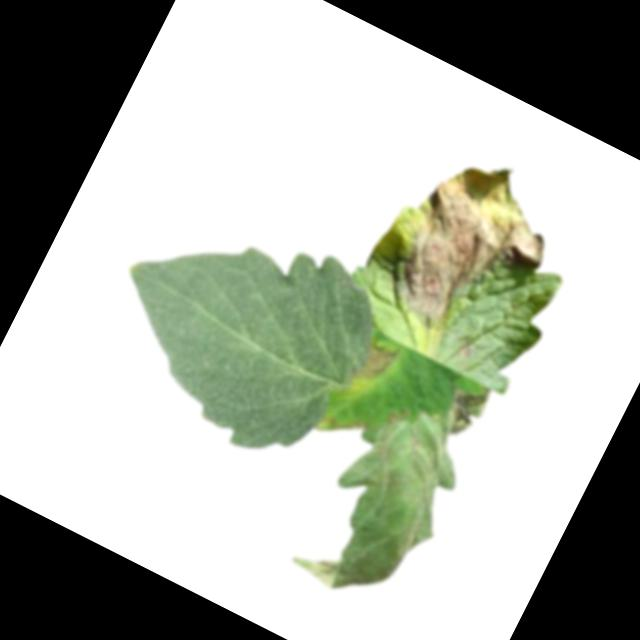Late_blight: (354, 129, 574, 361), (287, 384, 486, 619), (437, 376, 496, 443), (345, 335, 398, 395), (451, 335, 476, 362)
healthy: (76, 175, 402, 483)
